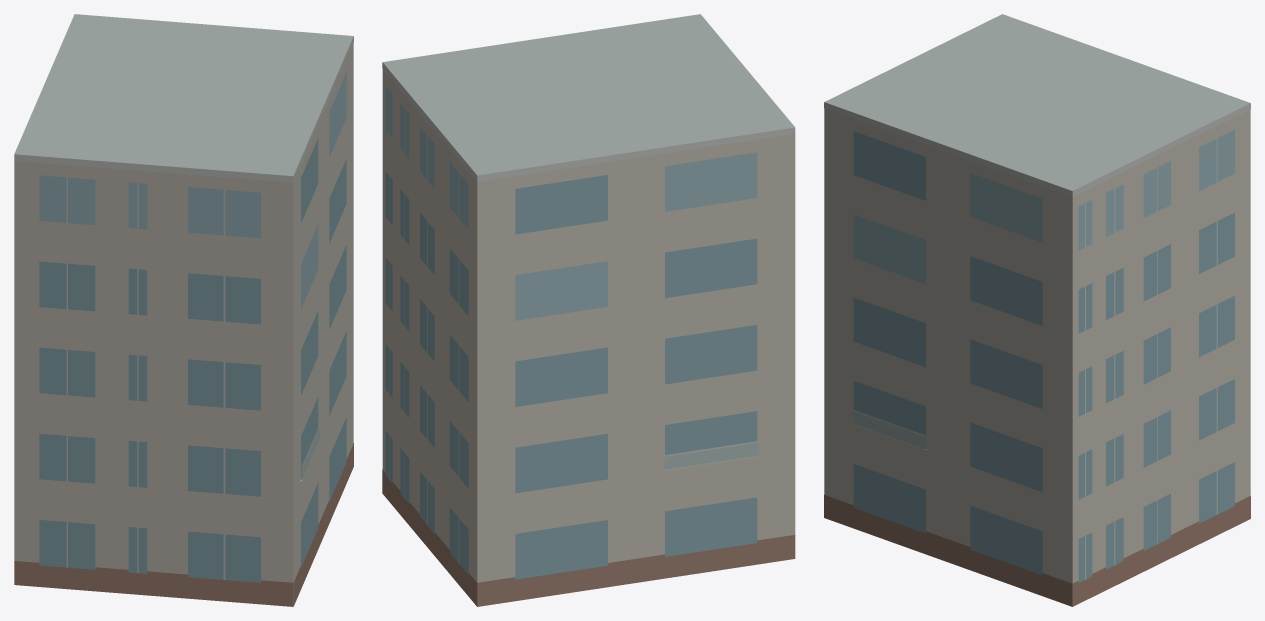
The model's file is survey-upis-32847419.glb.
3 renders of one model, left to right at view 1: azimuth 30°, elevation 25°; view 2: azimuth 150°, elevation 25°; view 3: azimuth 270°, elevation 25°, orthographic. The views are drawn at different scales.
Parts seen in each view (by area): view 1: survey-upis-32847419.tmp; view 2: survey-upis-32847419.tmp; view 3: survey-upis-32847419.tmp.
Part boxes in pixels (x1,y1,x2,y2): survey-upis-32847419.tmp: [14, 14, 353, 606]; survey-upis-32847419.tmp: [382, 14, 795, 606]; survey-upis-32847419.tmp: [824, 14, 1250, 606].
Bounding box in the file's own units: 14.94 × 16.35 × 15.21.
